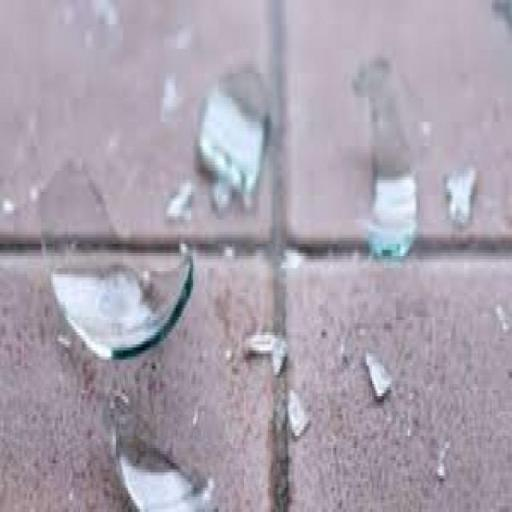glass: (31, 154, 200, 354), (352, 56, 418, 260), (185, 64, 280, 204), (106, 402, 220, 510), (245, 329, 290, 378), (443, 164, 478, 226), (363, 348, 392, 400), (164, 178, 195, 223), (288, 387, 310, 439)
